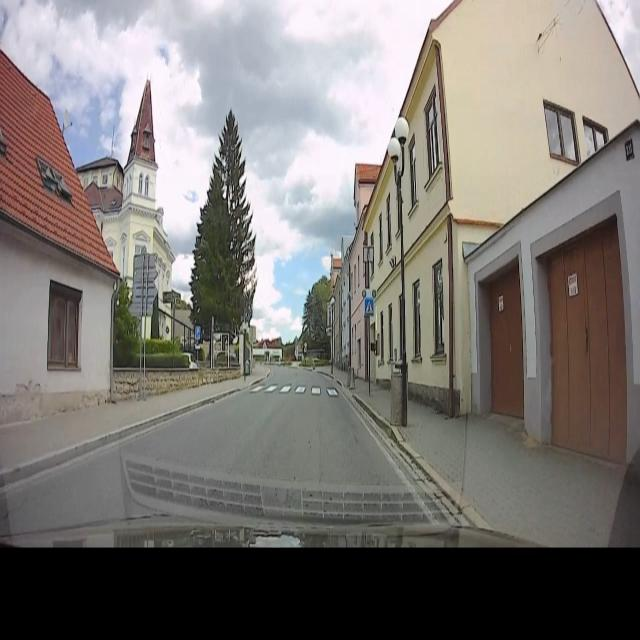Pedestrian crosswalk: (252, 381, 344, 401), (360, 285, 378, 318)
